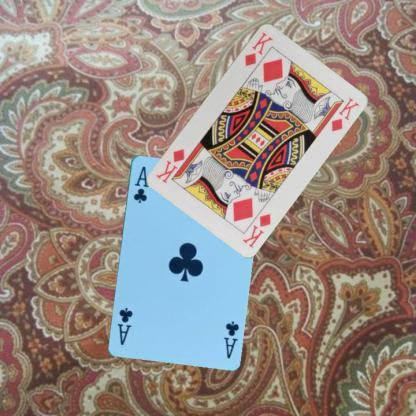Ac: (221, 318, 240, 360), (131, 164, 150, 204)
Kd: (241, 29, 274, 67), (239, 210, 272, 248)
